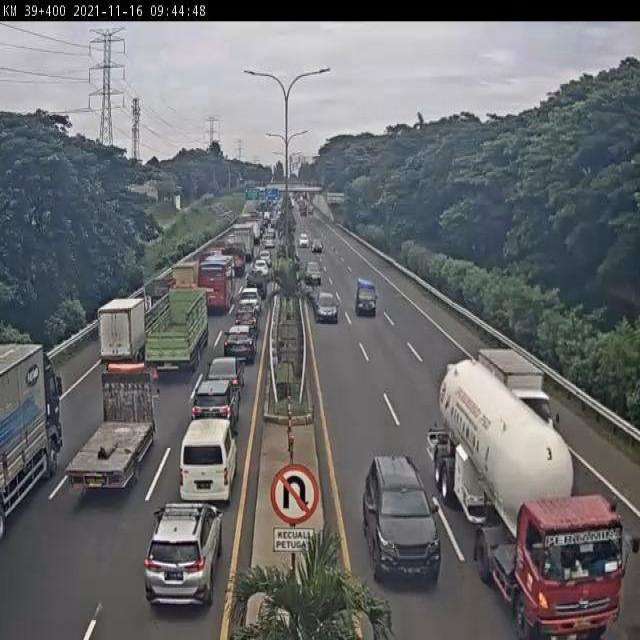big bus: (194, 253, 234, 316)
big truck: (145, 289, 208, 376)
car: (360, 452, 441, 587), (143, 505, 221, 612), (188, 382, 236, 447), (205, 355, 246, 396), (223, 327, 255, 365), (353, 276, 380, 319), (232, 308, 259, 335), (236, 288, 261, 316), (318, 285, 338, 320)
small bus: (177, 422, 237, 507)
small truck: (482, 351, 555, 445), (169, 256, 202, 303)
truck-l-: (0, 337, 66, 547)
truck-m-: (63, 364, 160, 492), (99, 298, 152, 366), (142, 278, 180, 318)
truck-xl-: (441, 358, 631, 640)
